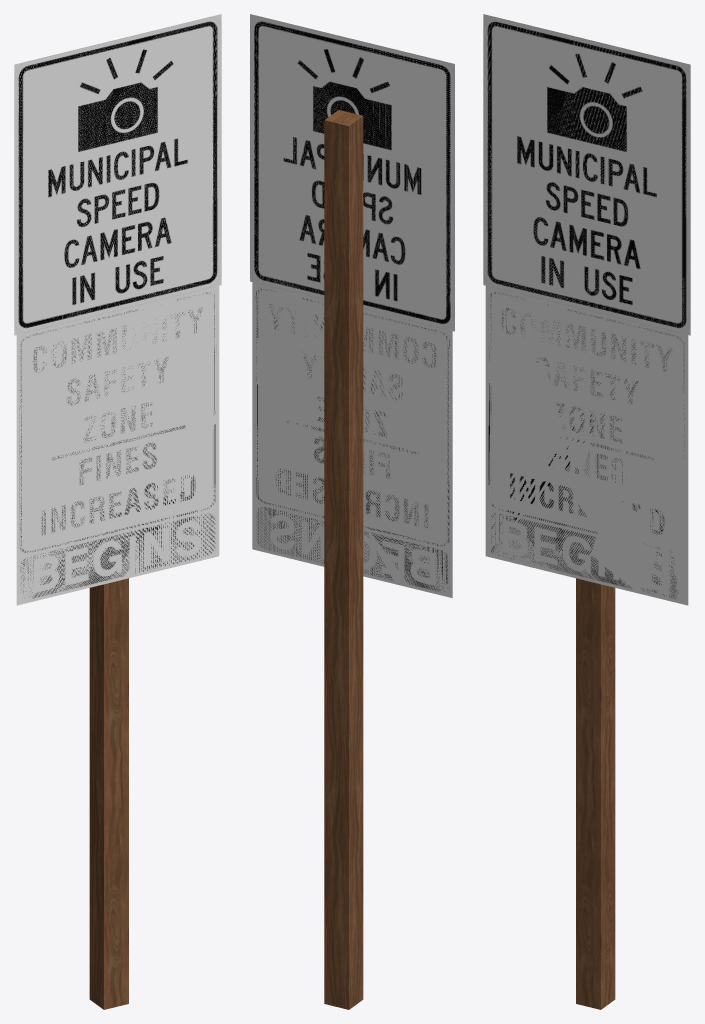
The model's file is AutomatedSpeedCamera.fbx.
The picture shows the model from 3 angles, left to right: view 1: azimuth 30°, elevation 25°; view 2: azimuth 150°, elevation 25°; view 3: azimuth 330°, elevation 25°; orthographic projection.
Visible parts, largest first — view 1: AutomatedSpeedCamera; view 2: AutomatedSpeedCamera; view 3: AutomatedSpeedCamera.
Boxes of the visible parts, x1,y1,x2,y2 form: AutomatedSpeedCamera: [14, 14, 221, 1009]; AutomatedSpeedCamera: [250, 14, 454, 1009]; AutomatedSpeedCamera: [483, 14, 690, 1009].
Size of the model in its own units: 80.13 by 357 by 10.65.
4 materials, 3 textured.
